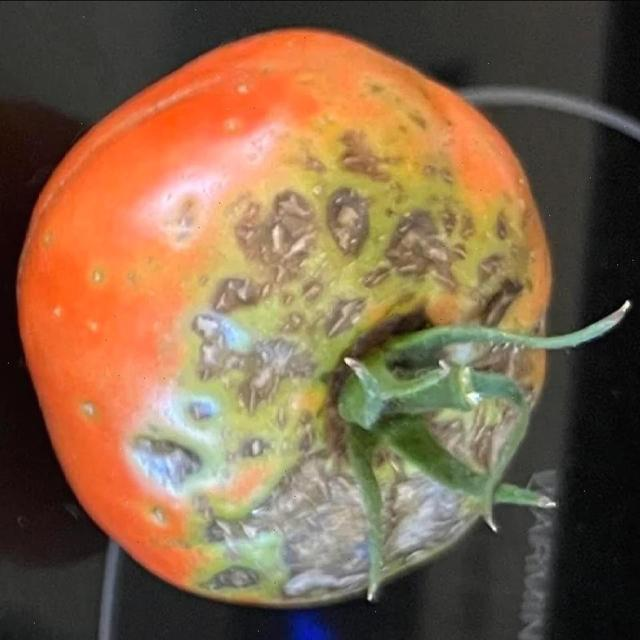Spotted wilt Virus Fruit: (21, 47, 41, 184)
